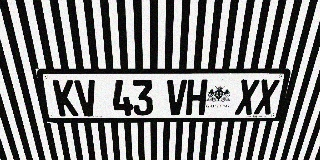3: (132, 80, 153, 116)
4: (111, 80, 133, 116)
H: (186, 79, 208, 115)
K: (52, 80, 79, 116)
V: (74, 80, 99, 116), (166, 80, 187, 115)
X: (253, 79, 280, 115), (235, 79, 260, 115)
